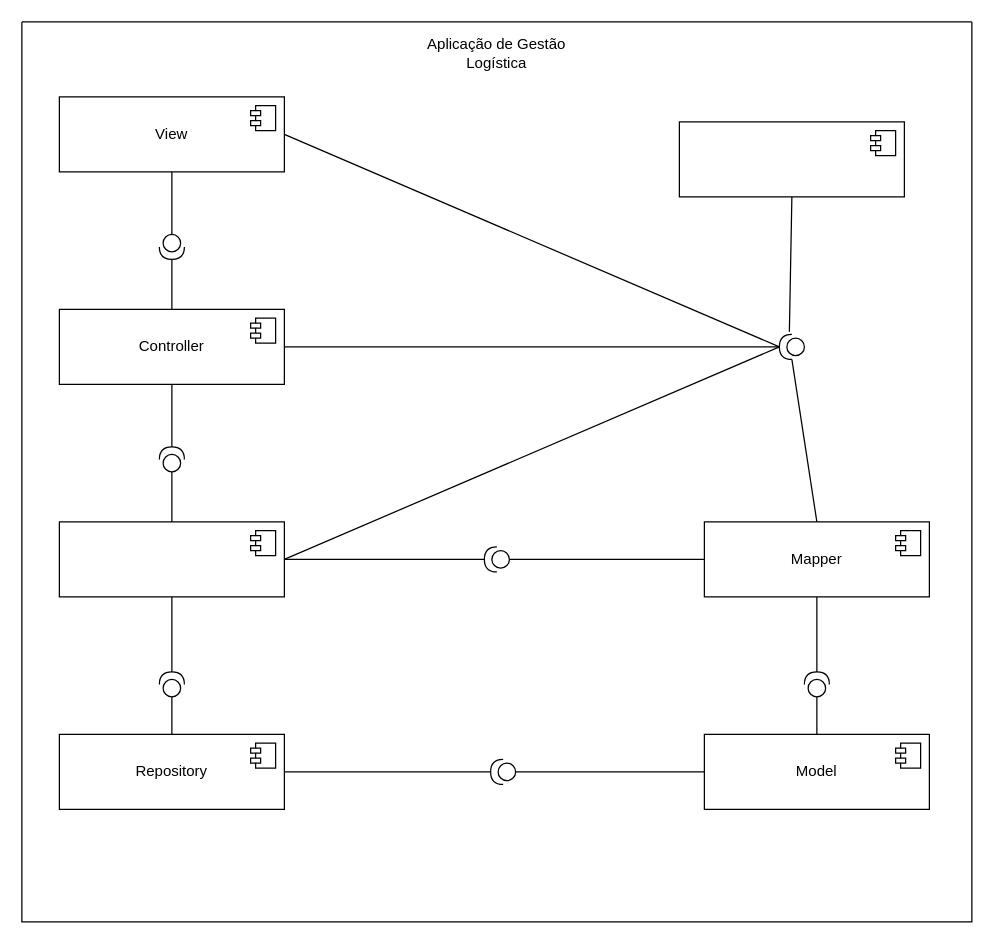
The diagram is 994 pixels wide and 944 high, and some of its shapes have lost their labels. Here are the shapes that lost their labels. From the top down, the centre of each, then its label:
At point 791,159: "DTO".
At point 171,559: "Service".
